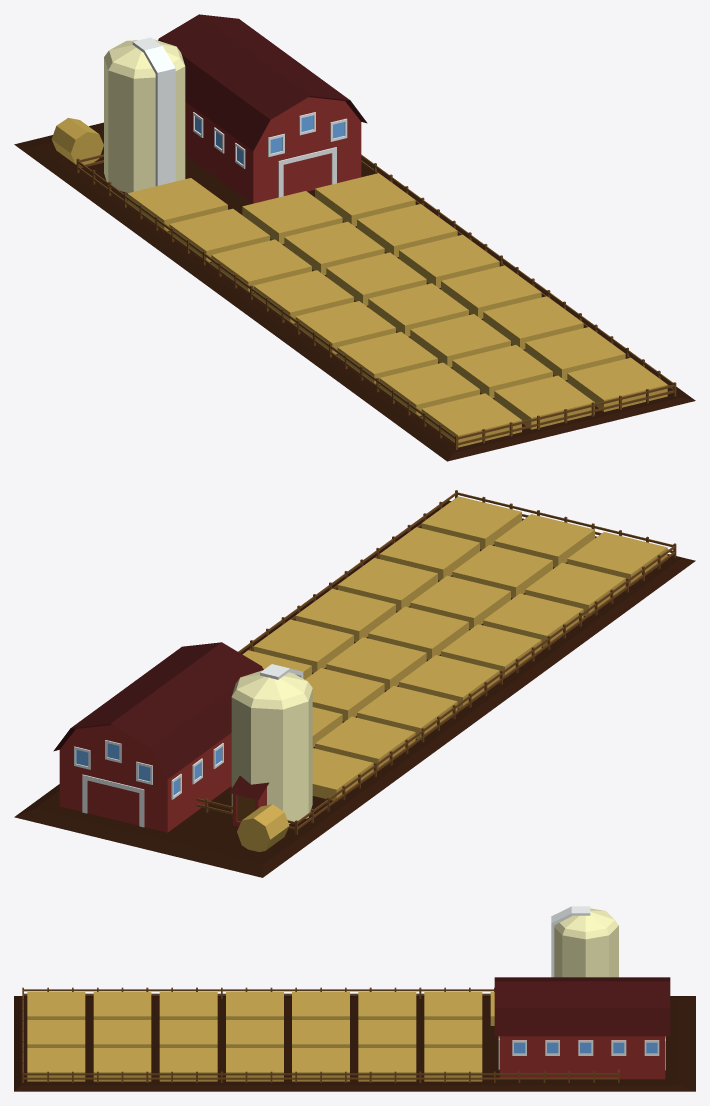
The model's file is WheatFarm.fbx.
3 views of the same model, one above another, from view 1: azimuth 30°, elevation 25°; view 2: azimuth 150°, elevation 25°; view 3: azimuth 270°, elevation 25° (orthographic). The views are drawn at different scales.
Visible parts, largest first — view 1: WheatFarm; view 2: WheatFarm; view 3: WheatFarm.
Boxes of the visible parts, x1,y1,x2,y2 form: WheatFarm: (14, 14, 695, 461); WheatFarm: (14, 490, 695, 877); WheatFarm: (14, 906, 695, 1091).
Size of the model in its own units: 1367 by 731 by 4122.
Materials: 1 (1 with a texture image).
